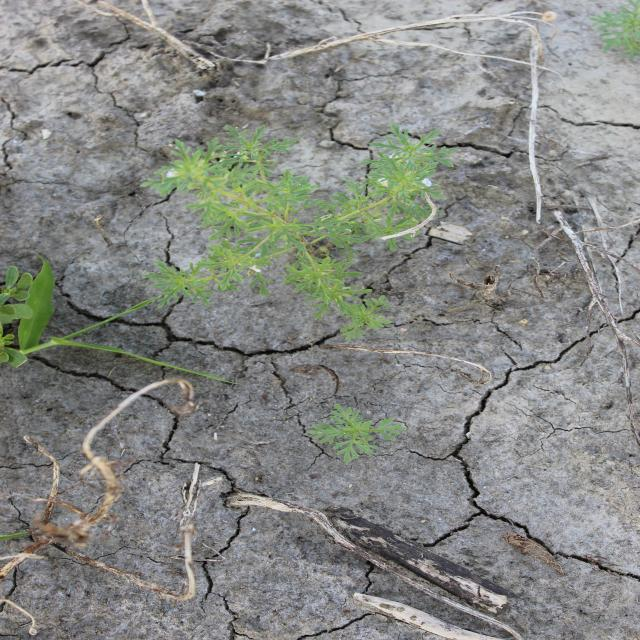Ragweed: (137, 121, 462, 344), (302, 402, 410, 466), (586, 2, 637, 66)
